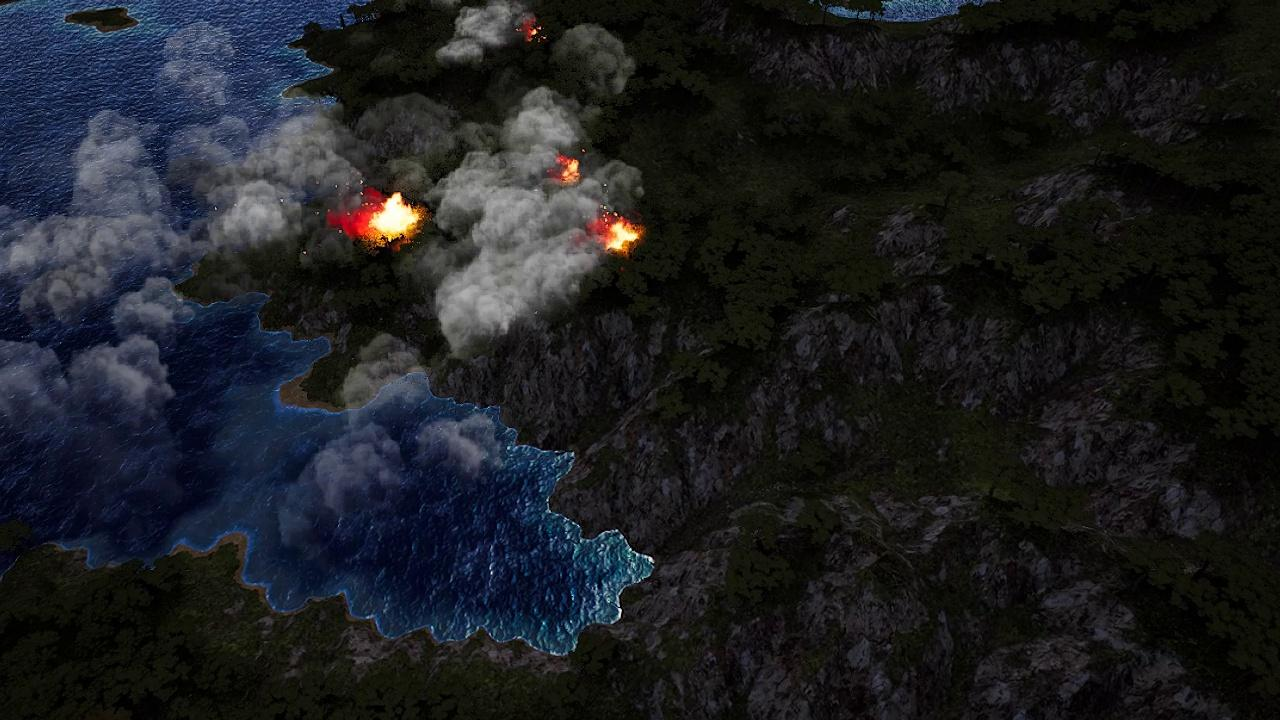fire: (361, 193, 419, 244), (605, 217, 644, 252), (556, 155, 581, 183), (524, 19, 545, 42)
smoke: (0, 8, 637, 449), (294, 335, 507, 542), (356, 0, 536, 67)
